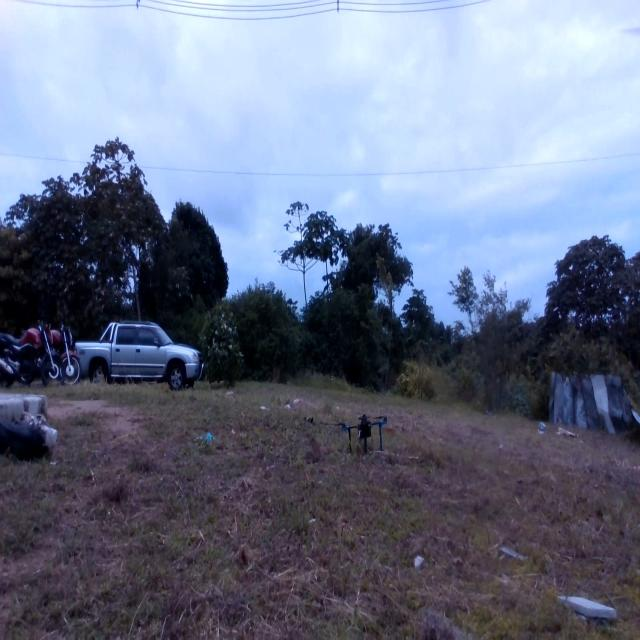-uav-: (328, 405, 390, 465)
